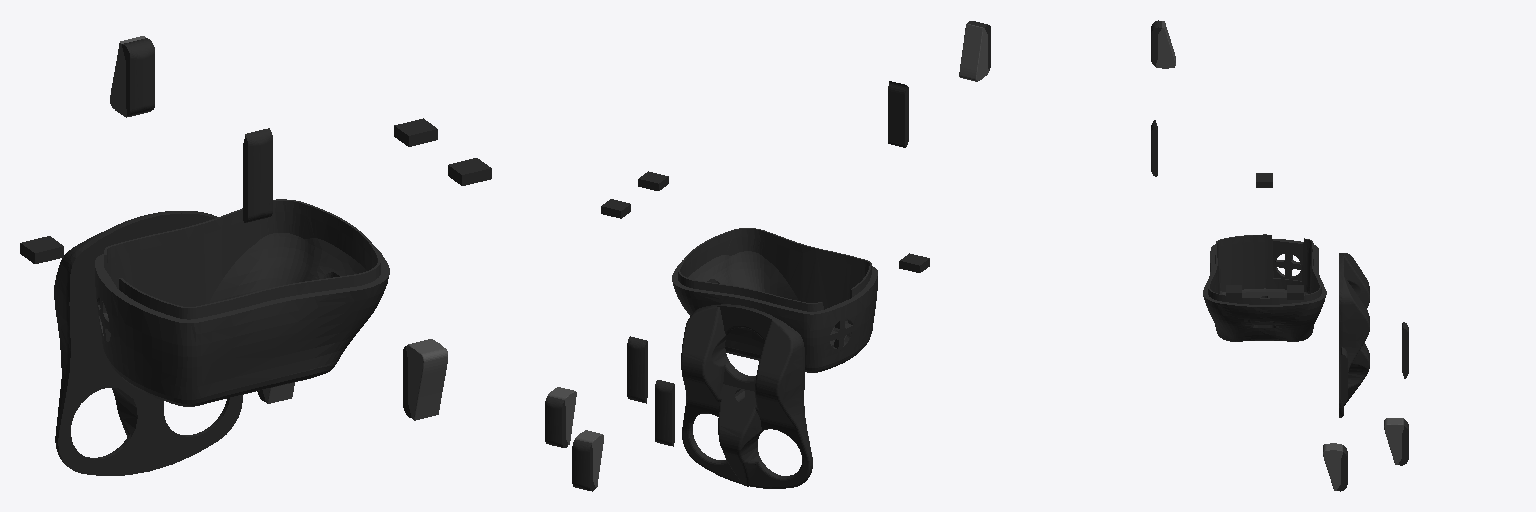
--- Facts derived from the render (not from the file) ---
3 views of the same robot in one strip: view 1: azimuth 30°, elevation 25°; view 2: azimuth 150°, elevation 25°; view 3: azimuth 270°, elevation 25° (orthographic).
Robot: rhr_flex_model — 50 links, 49 joints (36 continuous, 13 fixed); root link base_link; default pose: every joint at zero.
Links seen in each view (by area): view 1: base_link, pad, distal_1, proximal_pad_3, distal_pad_3, distal_3; view 2: base_link, pad, distal_3, proximal_pad_3, proximal_pad_1, proximal_pad_2, distal_pad_1, distal_pad_2, distal_2, distal_1; view 3: base_link, pad, distal_1, distal_2, distal_3.
Boxes of the visible links, bbox=[...] form: base_link: bbox=[95, 199, 389, 406]; pad: bbox=[54, 211, 242, 475]; distal_1: bbox=[406, 339, 447, 420]; proximal_pad_3: bbox=[243, 128, 272, 222]; distal_pad_3: bbox=[122, 38, 154, 115]; distal_3: bbox=[110, 36, 150, 117]; base_link: bbox=[672, 228, 877, 372]; pad: bbox=[681, 304, 812, 488]; distal_3: bbox=[959, 24, 988, 81]; proximal_pad_3: bbox=[888, 81, 908, 147]; proximal_pad_1: bbox=[627, 336, 647, 403]; proximal_pad_2: bbox=[655, 380, 674, 446]; distal_pad_1: bbox=[545, 396, 567, 447]; distal_pad_2: bbox=[572, 439, 595, 491]; distal_2: bbox=[575, 430, 603, 487]; distal_1: bbox=[548, 387, 576, 444]; base_link: bbox=[1203, 234, 1326, 341]; pad: bbox=[1339, 253, 1369, 417]; distal_1: bbox=[1323, 443, 1342, 490]; distal_2: bbox=[1384, 418, 1403, 464]; distal_3: bbox=[1156, 21, 1175, 68].
Bounding box of the posed robot: 0.2647 × 0.22 × 0.3195 m (x, y, z).
Meshes: 16 distinct files referenced, 11 mesh visuals loaded (11 binary STL); not drawn: 5 (reference not matched to a file when rendering).

URDF robot description (rhr_flex_model):
<?xml version="1.0" ?>
<!-- =================================================================================== -->
<!-- |    This document was autogenerated by xacro from full_reflex_model.urdf.xacro   | -->
<!-- |    EDITING THIS FILE BY HAND IS NOT RECOMMENDED                                 | -->
<!-- =================================================================================== -->
<robot name="rhr_flex_model" xmlns:xacro="http://www.ros.org/wiki/xacro">
  <!-- ################ ################ ################ ################ ################ ################ -->
  <!-- ################ XACRO PORTION OF THE URDF, FOR MAKING THE FLEXIBLE JOINTS ################ -->
  <!-- ################ ################ ################ ################ ################ ################ -->
  <!-- Macro to make each park of the link -->
  <!-- Macro to one flex body link to the next -->
  <!-- Macro to make the joint from proximal to first link and from last link to distal  -->
  <link name="finger[1]/flex_link[1]">
    <visual>
      <geometry>
        <box size="0.00222222222222 0.014 0.006"/>
      </geometry>
      <material name="dark gray">
        <color rgba="0.2 0.2 .2 1"/>
      </material>
    </visual>
  </link>
  <link name="finger[1]/flex_link[2]">
    <visual>
      <geometry>
        <box size="0.00222222222222 0.014 0.006"/>
      </geometry>
      <material name="dark gray">
        <color rgba="0.2 0.2 .2 1"/>
      </material>
    </visual>
  </link>
  <link name="finger[1]/flex_link[3]">
    <visual>
      <geometry>
        <box size="0.00222222222222 0.014 0.006"/>
      </geometry>
      <material name="dark gray">
        <color rgba="0.2 0.2 .2 1"/>
      </material>
    </visual>
  </link>
  <link name="finger[1]/flex_link[4]">
    <visual>
      <geometry>
        <box size="0.00222222222222 0.014 0.006"/>
      </geometry>
      <material name="dark gray">
        <color rgba="0.2 0.2 .2 1"/>
      </material>
    </visual>
  </link>
  <link name="finger[1]/flex_link[5]">
    <visual>
      <geometry>
        <box size="0.00222222222222 0.014 0.006"/>
      </geometry>
      <material name="dark gray">
        <color rgba="0.2 0.2 .2 1"/>
      </material>
    </visual>
  </link>
  <link name="finger[1]/flex_link[6]">
    <visual>
      <geometry>
        <box size="0.00222222222222 0.014 0.006"/>
      </geometry>
      <material name="dark gray">
        <color rgba="0.2 0.2 .2 1"/>
      </material>
    </visual>
  </link>
  <link name="finger[1]/flex_link[7]">
    <visual>
      <geometry>
        <box size="0.00222222222222 0.014 0.006"/>
      </geometry>
      <material name="dark gray">
        <color rgba="0.2 0.2 .2 1"/>
      </material>
    </visual>
  </link>
  <link name="finger[1]/flex_link[8]">
    <visual>
      <geometry>
        <box size="0.00222222222222 0.014 0.006"/>
      </geometry>
      <material name="dark gray">
        <color rgba="0.2 0.2 .2 1"/>
      </material>
    </visual>
  </link>
  <link name="finger[1]/flex_link[9]">
    <visual>
      <geometry>
        <box size="0.00222222222222 0.014 0.006"/>
      </geometry>
      <material name="dark gray">
        <color rgba="0.2 0.2 .2 1"/>
      </material>
    </visual>
  </link>
  <joint name="finger[1]/flex_joint_from_1_to_2" type="continuous">
    <parent link="finger[1]/flex_link[1]"/>
    <child link="finger[1]/flex_link[2]"/>
    <origin xyz="0.00177777777778 0 0"/>
    <axis xyz="0 -1 0"/>
  </joint>
  <joint name="finger[1]/flex_joint_from_2_to_3" type="continuous">
    <parent link="finger[1]/flex_link[2]"/>
    <child link="finger[1]/flex_link[3]"/>
    <origin xyz="0.00177777777778 0 0"/>
    <axis xyz="0 -1 0"/>
  </joint>
  <joint name="finger[1]/flex_joint_from_3_to_4" type="continuous">
    <parent link="finger[1]/flex_link[3]"/>
    <child link="finger[1]/flex_link[4]"/>
    <origin xyz="0.00177777777778 0 0"/>
    <axis xyz="0 -1 0"/>
  </joint>
  <joint name="finger[1]/flex_joint_from_4_to_5" type="continuous">
    <parent link="finger[1]/flex_link[4]"/>
    <child link="finger[1]/flex_link[5]"/>
    <origin xyz="0.00177777777778 0 0"/>
    <axis xyz="0 -1 0"/>
  </joint>
  <joint name="finger[1]/flex_joint_from_5_to_6" type="continuous">
    <parent link="finger[1]/flex_link[5]"/>
    <child link="finger[1]/flex_link[6]"/>
    <origin xyz="0.00177777777778 0 0"/>
    <axis xyz="0 -1 0"/>
  </joint>
  <joint name="finger[1]/flex_joint_from_6_to_7" type="continuous">
    <parent link="finger[1]/flex_link[6]"/>
    <child link="finger[1]/flex_link[7]"/>
    <origin xyz="0.00177777777778 0 0"/>
    <axis xyz="0 -1 0"/>
  </joint>
  <joint name="finger[1]/flex_joint_from_7_to_8" type="continuous">
    <parent link="finger[1]/flex_link[7]"/>
    <child link="finger[1]/flex_link[8]"/>
    <origin xyz="0.00177777777778 0 0"/>
    <axis xyz="0 -1 0"/>
  </joint>
  <joint name="finger[1]/flex_joint_from_8_to_9" type="continuous">
    <parent link="finger[1]/flex_link[8]"/>
    <child link="finger[1]/flex_link[9]"/>
    <origin xyz="0.00177777777778 0 0"/>
    <axis xyz="0 -1 0"/>
  </joint>
  <joint name="finger[1]/flex_joint_from_prox_to_1" type="continuous">
    <parent link="proximal_1"/>
    <child link="finger[1]/flex_link[1]"/>
    <origin xyz="0.06 0 0.003"/>
    <axis xyz="0 -1 0"/>
  </joint>
  <joint name="finger[1]/flex_joint_from_9_to_dist" type="continuous">
    <parent link="finger[1]/flex_link[9]"/>
    <child link="distal_1"/>
    <origin xyz="-0.00822222222222 0 0.003"/>
    <axis xyz="0 -1 0"/>
  </joint>
  <link name="finger[2]/flex_link[1]">
    <visual>
      <geometry>
        <box size="0.00222222222222 0.014 0.006"/>
      </geometry>
      <material name="dark gray">
        <color rgba="0.2 0.2 .2 1"/>
      </material>
    </visual>
  </link>
  <link name="finger[2]/flex_link[2]">
    <visual>
      <geometry>
        <box size="0.00222222222222 0.014 0.006"/>
      </geometry>
      <material name="dark gray">
        <color rgba="0.2 0.2 .2 1"/>
      </material>
    </visual>
  </link>
  <link name="finger[2]/flex_link[3]">
    <visual>
      <geometry>
        <box size="0.00222222222222 0.014 0.006"/>
      </geometry>
      <material name="dark gray">
        <color rgba="0.2 0.2 .2 1"/>
      </material>
    </visual>
  </link>
  <link name="finger[2]/flex_link[4]">
    <visual>
      <geometry>
        <box size="0.00222222222222 0.014 0.006"/>
      </geometry>
      <material name="dark gray">
        <color rgba="0.2 0.2 .2 1"/>
      </material>
    </visual>
  </link>
  <link name="finger[2]/flex_link[5]">
    <visual>
      <geometry>
        <box size="0.00222222222222 0.014 0.006"/>
      </geometry>
      <material name="dark gray">
        <color rgba="0.2 0.2 .2 1"/>
      </material>
    </visual>
  </link>
  <link name="finger[2]/flex_link[6]">
    <visual>
      <geometry>
        <box size="0.00222222222222 0.014 0.006"/>
      </geometry>
      <material name="dark gray">
        <color rgba="0.2 0.2 .2 1"/>
      </material>
    </visual>
  </link>
  <link name="finger[2]/flex_link[7]">
    <visual>
      <geometry>
        <box size="0.00222222222222 0.014 0.006"/>
      </geometry>
      <material name="dark gray">
        <color rgba="0.2 0.2 .2 1"/>
      </material>
    </visual>
  </link>
  <link name="finger[2]/flex_link[8]">
    <visual>
      <geometry>
        <box size="0.00222222222222 0.014 0.006"/>
      </geometry>
      <material name="dark gray">
        <color rgba="0.2 0.2 .2 1"/>
      </material>
    </visual>
  </link>
  <link name="finger[2]/flex_link[9]">
    <visual>
      <geometry>
        <box size="0.00222222222222 0.014 0.006"/>
      </geometry>
      <material name="dark gray">
        <color rgba="0.2 0.2 .2 1"/>
      </material>
    </visual>
  </link>
  <joint name="finger[2]/flex_joint_from_1_to_2" type="continuous">
    <parent link="finger[2]/flex_link[1]"/>
    <child link="finger[2]/flex_link[2]"/>
    <origin xyz="0.00177777777778 0 0"/>
    <axis xyz="0 -1 0"/>
  </joint>
  <joint name="finger[2]/flex_joint_from_2_to_3" type="continuous">
    <parent link="finger[2]/flex_link[2]"/>
    <child link="finger[2]/flex_link[3]"/>
    <origin xyz="0.00177777777778 0 0"/>
    <axis xyz="0 -1 0"/>
  </joint>
  <joint name="finger[2]/flex_joint_from_3_to_4" type="continuous">
    <parent link="finger[2]/flex_link[3]"/>
    <child link="finger[2]/flex_link[4]"/>
    <origin xyz="0.00177777777778 0 0"/>
    <axis xyz="0 -1 0"/>
  </joint>
  <joint name="finger[2]/flex_joint_from_4_to_5" type="continuous">
    <parent link="finger[2]/flex_link[4]"/>
    <child link="finger[2]/flex_link[5]"/>
    <origin xyz="0.00177777777778 0 0"/>
    <axis xyz="0 -1 0"/>
  </joint>
  <joint name="finger[2]/flex_joint_from_5_to_6" type="continuous">
    <parent link="finger[2]/flex_link[5]"/>
    <child link="finger[2]/flex_link[6]"/>
    <origin xyz="0.00177777777778 0 0"/>
    <axis xyz="0 -1 0"/>
  </joint>
  <joint name="finger[2]/flex_joint_from_6_to_7" type="continuous">
    <parent link="finger[2]/flex_link[6]"/>
    <child link="finger[2]/flex_link[7]"/>
    <origin xyz="0.00177777777778 0 0"/>
    <axis xyz="0 -1 0"/>
  </joint>
  <joint name="finger[2]/flex_joint_from_7_to_8" type="continuous">
    <parent link="finger[2]/flex_link[7]"/>
    <child link="finger[2]/flex_link[8]"/>
    <origin xyz="0.00177777777778 0 0"/>
    <axis xyz="0 -1 0"/>
  </joint>
  <joint name="finger[2]/flex_joint_from_8_to_9" type="continuous">
    <parent link="finger[2]/flex_link[8]"/>
    <child link="finger[2]/flex_link[9]"/>
    <origin xyz="0.00177777777778 0 0"/>
    <axis xyz="0 -1 0"/>
  </joint>
  <joint name="finger[2]/flex_joint_from_prox_to_1" type="continuous">
    <parent link="proximal_2"/>
    <child link="finger[2]/flex_link[1]"/>
    <origin xyz="0.06 0 0.003"/>
    <axis xyz="0 -1 0"/>
  </joint>
  <joint name="finger[2]/flex_joint_from_9_to_dist" type="continuous">
    <parent link="finger[2]/flex_link[9]"/>
    <child link="distal_2"/>
    <origin xyz="-0.00822222222222 0 0.003"/>
    <axis xyz="0 -1 0"/>
  </joint>
  <link name="finger[3]/flex_link[1]">
    <visual>
      <geometry>
        <box size="0.00222222222222 0.014 0.006"/>
      </geometry>
      <material name="dark gray">
        <color rgba="0.2 0.2 .2 1"/>
      </material>
    </visual>
  </link>
  <link name="finger[3]/flex_link[2]">
    <visual>
      <geometry>
        <box size="0.00222222222222 0.014 0.006"/>
      </geometry>
      <material name="dark gray">
        <color rgba="0.2 0.2 .2 1"/>
      </material>
    </visual>
  </link>
  <link name="finger[3]/flex_link[3]">
    <visual>
      <geometry>
        <box size="0.00222222222222 0.014 0.006"/>
      </geometry>
      <material name="dark gray">
        <color rgba="0.2 0.2 .2 1"/>
      </material>
    </visual>
  </link>
  <link name="finger[3]/flex_link[4]">
    <visual>
      <geometry>
        <box size="0.00222222222222 0.014 0.006"/>
      </geometry>
      <material name="dark gray">
        <color rgba="0.2 0.2 .2 1"/>
      </material>
    </visual>
  </link>
  <link name="finger[3]/flex_link[5]">
    <visual>
      <geometry>
        <box size="0.00222222222222 0.014 0.006"/>
      </geometry>
      <material name="dark gray">
        <color rgba="0.2 0.2 .2 1"/>
      </material>
    </visual>
  </link>
  <link name="finger[3]/flex_link[6]">
    <visual>
      <geometry>
        <box size="0.00222222222222 0.014 0.006"/>
      </geometry>
      <material name="dark gray">
        <color rgba="0.2 0.2 .2 1"/>
      </material>
    </visual>
  </link>
  <link name="finger[3]/flex_link[7]">
    <visual>
      <geometry>
        <box size="0.00222222222222 0.014 0.006"/>
      </geometry>
      <material name="dark gray">
        <color rgba="0.2 0.2 .2 1"/>
      </material>
    </visual>
  </link>
  <link name="finger[3]/flex_link[8]">
    <visual>
      <geometry>
        <box size="0.00222222222222 0.014 0.006"/>
      </geometry>
      <material name="dark gray">
        <color rgba="0.2 0.2 .2 1"/>
      </material>
    </visual>
  </link>
  <link name="finger[3]/flex_link[9]">
    <visual>
      <geometry>
        <box size="0.00222222222222 0.014 0.006"/>
      </geometry>
      <material name="dark gray">
        <color rgba="0.2 0.2 .2 1"/>
      </material>
    </visual>
  </link>
  <joint name="finger[3]/flex_joint_from_1_to_2" type="continuous">
    <parent link="finger[3]/flex_link[1]"/>
    <child link="finger[3]/flex_link[2]"/>
    <origin xyz="0.00177777777778 0 0"/>
    <axis xyz="0 -1 0"/>
  </joint>
  <joint name="finger[3]/flex_joint_from_2_to_3" type="continuous">
    <parent link="finger[3]/flex_link[2]"/>
    <child link="finger[3]/flex_link[3]"/>
    <origin xyz="0.00177777777778 0 0"/>
    <axis xyz="0 -1 0"/>
  </joint>
  <joint name="finger[3]/flex_joint_from_3_to_4" type="continuous">
    <parent link="finger[3]/flex_link[3]"/>
    <child link="finger[3]/flex_link[4]"/>
    <origin xyz="0.00177777777778 0 0"/>
    <axis xyz="0 -1 0"/>
  </joint>
  <joint name="finger[3]/flex_joint_from_4_to_5" type="continuous">
    <parent link="finger[3]/flex_link[4]"/>
    <child link="finger[3]/flex_link[5]"/>
    <origin xyz="0.00177777777778 0 0"/>
    <axis xyz="0 -1 0"/>
  </joint>
  <joint name="finger[3]/flex_joint_from_5_to_6" type="continuous">
    <parent link="finger[3]/flex_link[5]"/>
    <child link="finger[3]/flex_link[6]"/>
    <origin xyz="0.00177777777778 0 0"/>
    <axis xyz="0 -1 0"/>
  </joint>
  <joint name="finger[3]/flex_joint_from_6_to_7" type="continuous">
    <parent link="finger[3]/flex_link[6]"/>
    <child link="finger[3]/flex_link[7]"/>
    <origin xyz="0.00177777777778 0 0"/>
    <axis xyz="0 -1 0"/>
  </joint>
  <joint name="finger[3]/flex_joint_from_7_to_8" type="continuous">
    <parent link="finger[3]/flex_link[7]"/>
    <child link="finger[3]/flex_link[8]"/>
    <origin xyz="0.00177777777778 0 0"/>
    <axis xyz="0 -1 0"/>
  </joint>
  <joint name="finger[3]/flex_joint_from_8_to_9" type="continuous">
    <parent link="finger[3]/flex_link[8]"/>
    <child link="finger[3]/flex_link[9]"/>
    <origin xyz="0.00177777777778 0 0"/>
    <axis xyz="0 -1 0"/>
  </joint>
  <joint name="finger[3]/flex_joint_from_prox_to_1" type="continuous">
    <parent link="proximal_3"/>
    <child link="finger[3]/flex_link[1]"/>
    <origin xyz="0.06 0 0.003"/>
    <axis xyz="0 -1 0"/>
  </joint>
  <joint name="finger[3]/flex_joint_from_9_to_dist" type="continuous">
    <parent link="finger[3]/flex_link[9]"/>
    <child link="distal_3"/>
    <origin xyz="-0.00822222222222 0 0.003"/>
    <axis xyz="0 -1 0"/>
  </joint>
  <!-- ################ ################ ################ ################ ################ ################ -->
  <!-- ################ THE SECTION CREATED BY SOLIDWORKS EXPORTER, CUT AND PASTE THIS IN HERE ################ -->
  <!-- ################ YOU CAN ALTER THE COLORS FROM HERE ################ -->
  <!-- ################ COMMENT OUT ALL dist*_joint PIECES OF THIS URDF SO THE FLEX JOINTS CAN LINK UP ################ -->
  <!-- ################ ################ ################ ################ ################ ################ -->
  <link name="base_link">
    <visual>
      <origin rpy="0 0 0" xyz="0 0 0"/>
      <geometry>
        <mesh filename="package://rhr_visualization/meshes/base_link.STL"/>
      </geometry>
      <material name="">
        <color rgba="0.22 0.22 0.22 1"/>
      </material>
    </visual>
  </link>
  <link name="pad">
    <visual>
      <origin rpy="0 0 0" xyz="0 0 0"/>
      <geometry>
        <mesh filename="package://rhr_visualization/meshes/pad.STL"/>
      </geometry>
      <material name="">
        <color rgba="0.2 0.2 .2 1"/>
      </material>
    </visual>
  </link>
  <joint name="pad_joint" type="fixed">
    <origin rpy="0 0 0" xyz="0 0 0"/>
    <parent link="base_link"/>
    <child link="pad"/>
    <axis xyz="0 0 0"/>
  </joint>
  <link name="swivel_1">
    <visual>
      <origin rpy="0 0 0" xyz="0 0 0"/>
      <geometry>
        <mesh filename="package://rhr_visualization/meshes/swivel_1.STL"/>
      </geometry>
      <material name="">
        <color rgba="0.22 0.22 0.22 1"/>
      </material>
    </visual>
  </link>
  <joint name="preshape_1" type="continuous">
    <origin rpy="6.75550818663469E-16 1.97993848419069E-16 -2.77555756156289E-16" xyz="0.0503973683071414 -0.026 0.063"/>
    <parent link="base_link"/>
    <child link="swivel_1"/>
    <axis xyz="0 0 -1"/>
  </joint>
  <link name="proximal_1">
    <visual>
      <origin rpy="0 0 0" xyz="0 0 0"/>
      <geometry>
        <mesh filename="package://rhr_visualization/meshes/proximal_1.STL"/>
      </geometry>
      <material name="">
        <color rgba="0.35 0.35 0.35 1"/>
      </material>
    </visual>
  </link>
  <joint name="proximal_joint_1" type="continuous">
    <origin rpy="-6.20039667432211E-16 2.40507565059625E-17 2.22044604925031E-16" xyz="0.01 0 0.0186"/>
    <parent link="swivel_1"/>
    <child link="proximal_1"/>
    <axis xyz="0 -1 0"/>
  </joint>
  <link name="proximal_pad_1">
    <visual>
      <origin rpy="0 0 0" xyz="0 0 0"/>
      <geometry>
        <mesh filename="package://rhr_visualization/meshes/proximal_pad_1.STL"/>
      </geometry>
      <material name="">
        <color rgba="0.2 0.2 .2 1"/>
      </material>
    </visual>
  </link>
  <joint name="proximal_1_pad_joint" type="fixed">
    <origin rpy="0 0 0" xyz="0 0 0"/>
    <parent link="proximal_1"/>
    <child link="proximal_pad_1"/>
    <axis xyz="0 0 0"/>
  </joint>
  <link name="distal_1">
    <visual>
      <origin rpy="0 0 0" xyz="0 0 0"/>
      <geometry>
        <mesh filename="package://rhr_visualization/meshes/distal_1.STL"/>
      </geometry>
      <material name="">
        <color rgba="0.35 0.35 0.35 1"/>
      </material>
    </visual>
  </link>
  <!--   <joint
    name="distal_joint_1"
    type="continuous">
    <origin
      xyz="0.0760000000000001 0 0.0025"
      rpy="0 0 0" />
    <parent
      link="proximal_1" />
    <child
      link="distal_1" />
    <axis
      xyz="0 -1 0" />
  </joint> -->
  <link name="distal_pad_1">
    <visual>
      <origin rpy="0 0 0" xyz="0 0 0"/>
      <geometry>
        <mesh filename="package://rhr_visualization/meshes/distal_pad_1.STL"/>
      </geometry>
      <material name="">
        <color rgba="0.2 0.2 .2 1"/>
      </material>
    </visual>
  </link>
  <joint name="distal_1_pad_joint" type="fixed">
    <origin rpy="0 0 0" xyz="0 0 0"/>
    <parent link="distal_1"/>
    <child link="distal_pad_1"/>
    <axis xyz="0 0 0"/>
  </joint>
  <link name="swivel_2">
    <visual>
      <origin rpy="0 0 0" xyz="0 0 0"/>
      <geometry>
        <mesh filename="package://rhr_visualization/meshes/swivel_2.STL"/>
      </geometry>
      <material name="">
        <color rgba="0.22 0.22 0.22 1"/>
      </material>
    </visual>
  </link>
  <joint name="preshape_2" type="continuous">
    <origin rpy="1.22459340959228E-15 -7.33448407631817E-16 -1.66533453693773E-16" xyz="0.0503973683071413 0.0259999999999999 0.063"/>
    <parent link="base_link"/>
    <child link="swivel_2"/>
    <axis xyz="0 0 -1"/>
  </joint>
  <link name="proximal_2">
    <visual>
      <origin rpy="0 0 0" xyz="0 0 0"/>
      <geometry>
        <mesh filename="package://rhr_visualization/meshes/proximal_2.STL"/>
      </geometry>
      <material name="">
        <color rgba="0.35 0.35 0.35 1"/>
      </material>
    </visual>
  </link>
  <joint name="proximal_joint_2" type="continuous">
    <origin rpy="-1.16908225836102E-15 9.55493012556849E-16 1.11022302462515E-16" xyz="0.01 0 0.0186"/>
    <parent link="swivel_2"/>
    <child link="proximal_2"/>
    <axis xyz="0 -1 0"/>
  </joint>
  <link name="proximal_pad_2">
    <visual>
      <origin rpy="0 0 0" xyz="0 0 0"/>
      <geometry>
        <mesh filename="package://rhr_visualization/meshes/proximal_pad_2.STL"/>
      </geometry>
      <material name="">
        <color rgba="0.2 0.2 .2 1"/>
      </material>
    </visual>
  </link>
  <joint name="proximal_2_pad_joint" type="fixed">
    <origin rpy="0 0 0" xyz="0 0 0"/>
    <parent link="proximal_2"/>
    <child link="proximal_pad_2"/>
    <axis xyz="0 0 0"/>
  </joint>
  <link name="distal_2">
    <visual>
      <origin rpy="0 0 0" xyz="0 0 0"/>
      <geometry>
        <mesh filename="package://rhr_visualization/meshes/distal_2.STL"/>
      </geometry>
      <material name="">
        <color rgba="0.35 0.35 0.35 1"/>
      </material>
    </visual>
  </link>
  <!--   <joint
    name="distal_joint_2"
    type="continuous">
    <origin
      xyz="0.076 0 0.0025"
      rpy="0 0 0" />
    <parent
      link="proximal_2" />
    <child
      link="distal_2" />
    <axis
      xyz="0 -1 0" />
  </joint> -->
  <link name="distal_pad_2">
    <visual>
      <origin rpy="0 0 0" xyz="0 0 0"/>
      <geometry>
        <mesh filename="package://rhr_visualization/meshes/distal_pad_2.STL"/>
      </geometry>
      <material name="">
        <color rgba="0.2 0.2 .2 1"/>
      </material>
    </visual>
  </link>
  <joint name="distal_2_pad_joint" type="fixed">
    <origin rpy="0 0 0" xyz="0 0 0"/>
    <parent link="distal_2"/>
    <child link="distal_pad_2"/>
    <axis xyz="0 0 0"/>
  </joint>
  <link name="proximal_3">
    <visual>
      <origin rpy="0 0 0" xyz="0 0 0"/>
      <geometry>
        <mesh filename="package://rhr_visualization/meshes/proximal_3.STL"/>
      </geometry>
      <material name="">
        <color rgba="0.35 0.35 0.35 1"/>
      </material>
    </visual>
  </link>
  <joint name="proximal_joint_3" type="continuous">
    <origin rpy="-5.55111512312578E-17 -2.22044604925031E-16 3.14159265358979" xyz="-0.03 0 0.0816000000000001"/>
    <parent link="base_link"/>
    <child link="proximal_3"/>
    <axis xyz="0 -1 0"/>
  </joint>
  <link name="proximal_pad_3">
    <visual>
      <origin rpy="0 0 0" xyz="0 0 0"/>
      <geometry>
        <mesh filename="package://rhr_visualization/meshes/proximal_pad_3.STL"/>
      </geometry>
      <material name="">
        <color rgba="0.2 0.2 .2 1"/>
      </material>
    </visual>
  </link>
  <joint name="proximal_3_pad_joint" type="continuous">
    <origin rpy="-8.12078539014657E-108 0 0" xyz="0 0 0"/>
    <parent link="proximal_3"/>
    <child link="proximal_pad_3"/>
    <axis xyz="0 -1 0"/>
  </joint>
  <link name="distal_3">
    <visual>
      <origin rpy="0 0 0" xyz="0 0 0"/>
      <geometry>
        <mesh filename="package://rhr_visualization/meshes/distal_3.STL"/>
      </geometry>
      <material name="">
        <color rgba="0.35 0.35 0.35 1"/>
      </material>
    </visual>
  </link>
  <!--   <joint
    name="distal_joint_3"
    type="continuous">
    <origin
      xyz="0.0760000000000001 0 0.0025"
      rpy="0 0 0" />
    <parent
      link="proximal_3" />
    <child
      link="distal_3" />
    <axis
      xyz="0 -1 0" />
  </joint> -->
  <link name="distal_pad_3">
    <visual>
      <origin rpy="0 0 0" xyz="0 0 0"/>
      <geometry>
        <mesh filename="package://rhr_visualization/meshes/distal_pad_3.STL"/>
      </geometry>
      <material name="">
        <color rgba="0.2 0.2 .2 1"/>
      </material>
    </visual>
  </link>
  <joint name="distal_3_pad_joint" type="fixed">
    <origin rpy="0 0 0" xyz="0 0 0"/>
    <parent link="distal_3"/>
    <child link="distal_pad_3"/>
    <axis xyz="0 0 0"/>
  </joint>
  <!-- ################ ################ ################ ################ ################ ################ -->
  <!-- ################ THIS SECTION LINKS THE MARKERS (TACTILE DATA) TO THE CAD MESH ################ -->
  <!-- ################ COPY AND PASTE THIS FROM urdf/homemade_marker_portion_urdf  ################ -->
  <!-- ################ ################ ################ ################ ################ ################ -->
  <joint name="base_tactile_joint" type="fixed">
    <origin rpy="0 0 1.57075" xyz="0 0 0"/>
    <parent link="base_link"/>
    <child link="base_tactile"/>
  </joint>
  <link name="base_tactile"/>
  <link name="proximal_1_tactile"/>
  <joint name="proximal_1_tactile_joint" type="fixed">
    <origin rpy="0 0 0" xyz="0 0 0"/>
    <parent link="proximal_1"/>
    <child link="proximal_1_tactile"/>
  </joint>
  <joint name="proximal_2_tactile_joint" type="fixed">
    <origin rpy="0 0 0" xyz="0 0 0"/>
    <parent link="proximal_2"/>
    <child link="proximal_2_tactile"/>
  </joint>
  <link name="proximal_2_tactile"/>
  <joint name="proximal_3_tactile_joint" type="fixed">
    <origin rpy="0 0 0" xyz="0 0 0"/>
    <parent link="proximal_3"/>
    <child link="proximal_3_tactile"/>
  </joint>
  <link name="proximal_3_tactile"/>
  <joint name="distal_1_tactile_joint" type="fixed">
    <origin rpy="0 0 0" xyz="0 0 0"/>
    <parent link="distal_1"/>
    <child link="distal_1_tactile"/>
  </joint>
  <link name="distal_1_tactile"/>
  <joint name="distal_2_tactile_joint" type="fixed">
    <origin rpy="0 0 0" xyz="0 0 0"/>
    <parent link="distal_2"/>
    <child link="distal_2_tactile"/>
  </joint>
  <link name="distal_2_tactile"/>
  <joint name="distal_3_tactile_joint" type="fixed">
    <origin rpy="0 0 0" xyz="0 0 0"/>
    <parent link="distal_3"/>
    <child link="distal_3_tactile"/>
  </joint>
  <link name="distal_3_tactile"/>
</robot>
